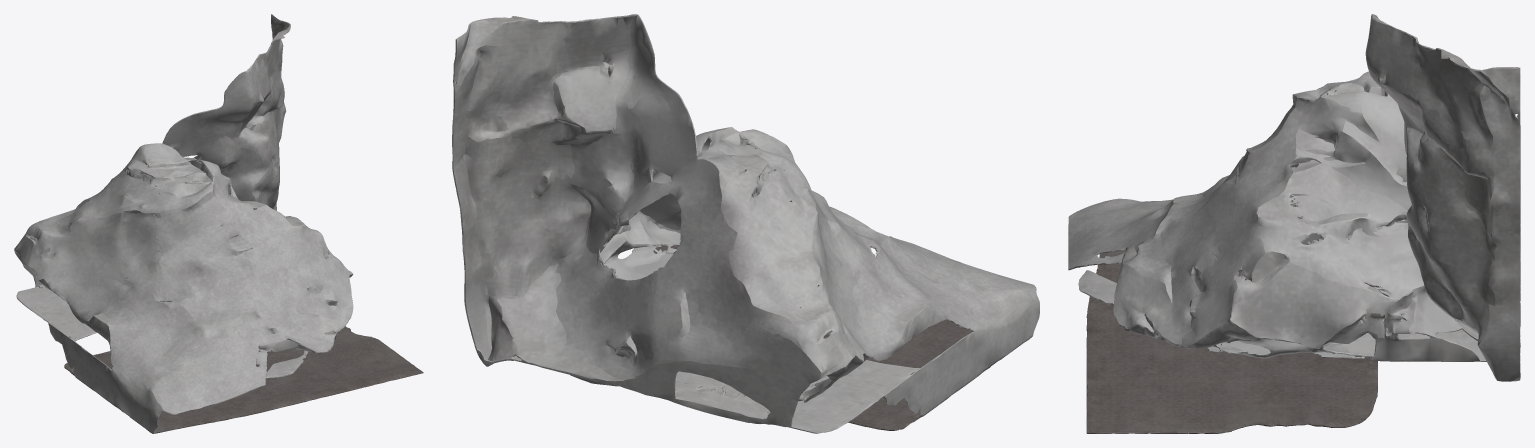
Rendered from tex_mesh.glb.
3 views of the same model, side by side, from view 1: azimuth 30°, elevation 25°; view 2: azimuth 150°, elevation 25°; view 3: azimuth 270°, elevation 25° (orthographic). The views are drawn at different scales.
Visible parts, largest first — view 1: world; view 2: world; view 3: world.
Boxes of the visible parts, x1,y1,x2,y2 form: world: [14, 14, 423, 433]; world: [452, 14, 1039, 433]; world: [1068, 14, 1520, 433].
Size of the model in its own units: 0.35 by 0.3138 by 0.3522.
1 material, 1 textured.
